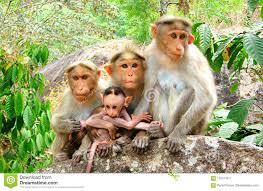monkey: (139, 6, 203, 67), (60, 55, 99, 104), (107, 50, 154, 89), (103, 80, 126, 121)
